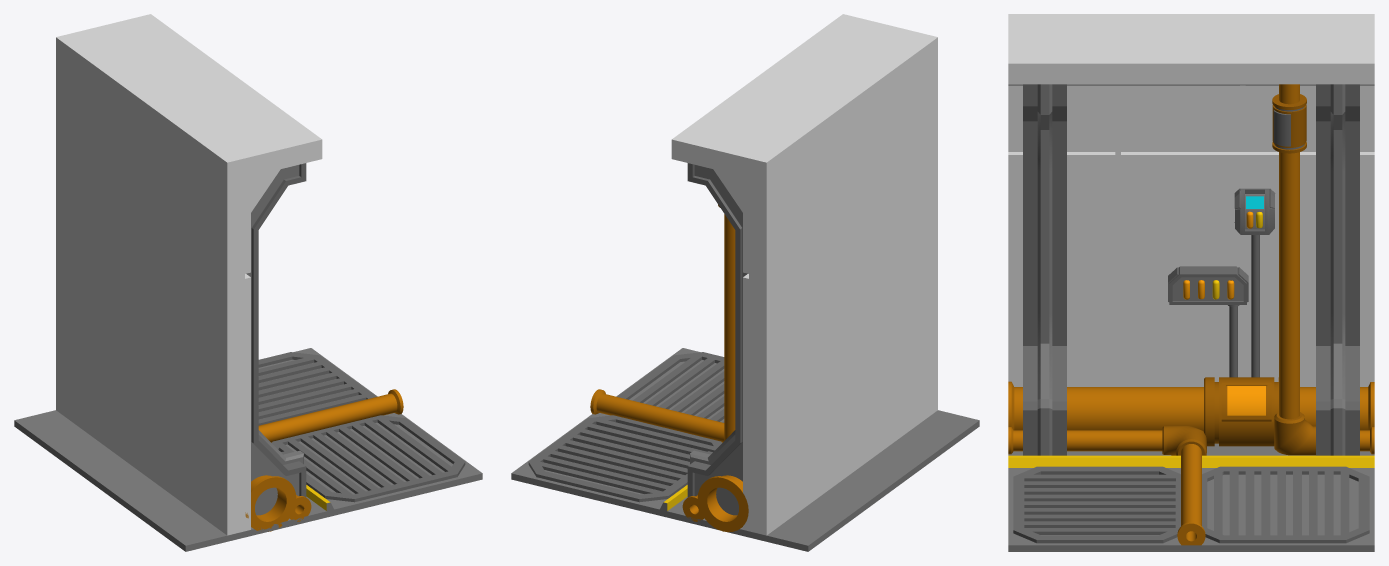
Rendered from Space_Ship_Set_2.fbx.
3 renders of one model, left to right at view 1: azimuth 30°, elevation 25°; view 2: azimuth 150°, elevation 25°; view 3: azimuth 270°, elevation 25°, orthographic. The views are drawn at different scales.
Parts seen in each view (by area): view 1: Space_Ship_Set_1_50mm_2; view 2: Space_Ship_Set_1_50mm_2; view 3: Space_Ship_Set_1_50mm_2.
Boxes of the visible parts, x1=… form: Space_Ship_Set_1_50mm_2: x1=14, y1=14, x2=482, y2=551; Space_Ship_Set_1_50mm_2: x1=511, y1=14, x2=979, y2=551; Space_Ship_Set_1_50mm_2: x1=1008, y1=14, x2=1374, y2=551.
Size of what is drawn, in the model's own units: 0.03 by 0.0366 by 0.03.
Materials: 1 (1 with a texture image).
